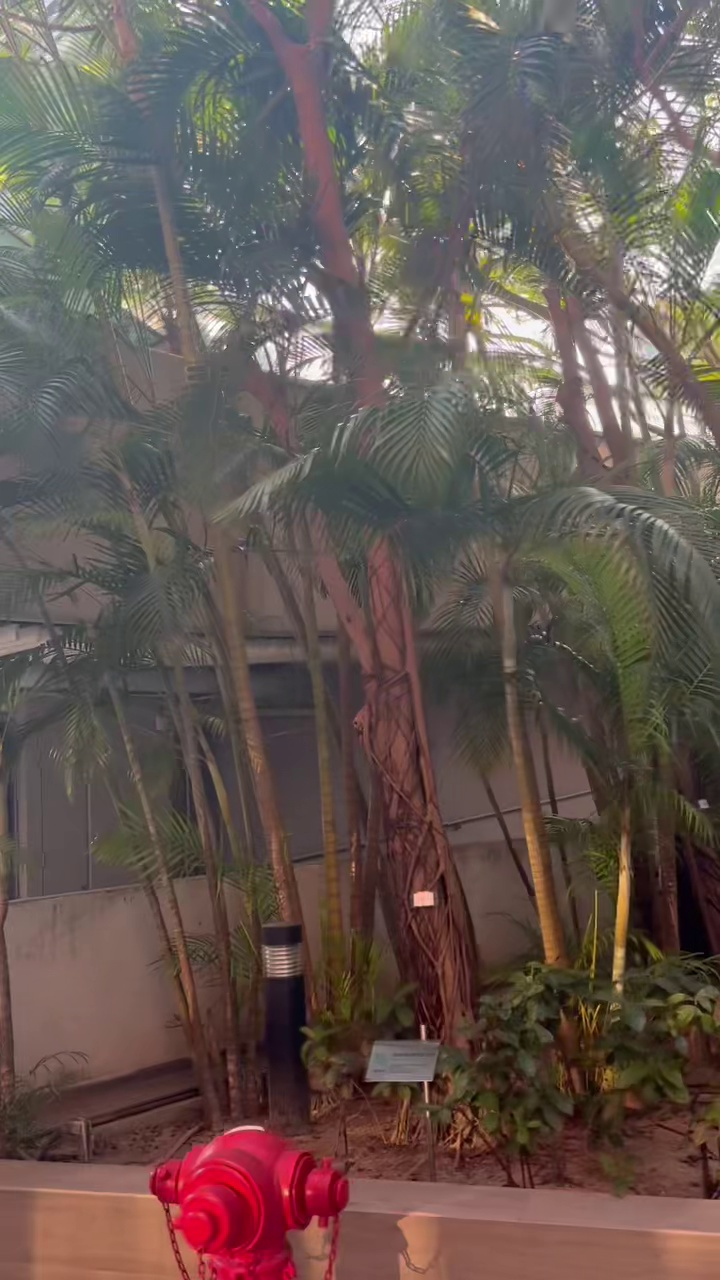Ficus benjamina: (251, 0, 478, 1040)
